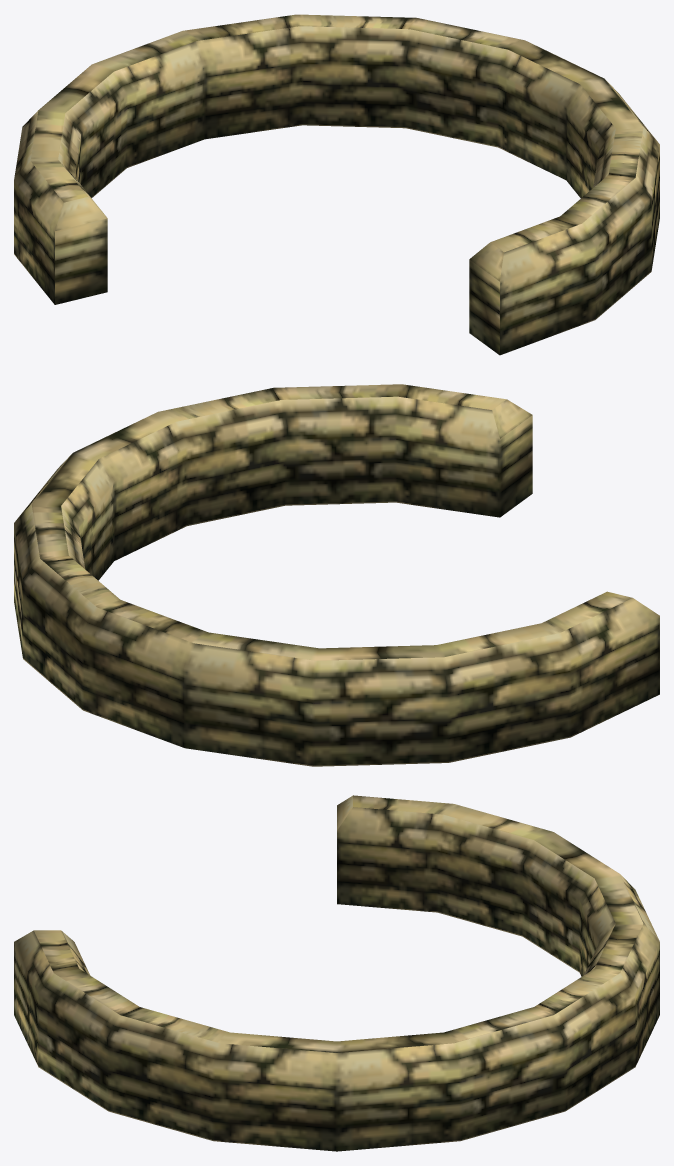
File: M8_SAM_Sandbags.glb
The picture shows the model from 3 angles, top to bottom: view 1: azimuth 30°, elevation 25°; view 2: azimuth 150°, elevation 25°; view 3: azimuth 270°, elevation 25°; orthographic projection. The views are drawn at different scales.
Visible parts, largest first — view 1: M8_SAM_SANDBAGS; view 2: M8_SAM_SANDBAGS; view 3: M8_SAM_SANDBAGS.
Boxes of the visible parts, x1=… form: M8_SAM_SANDBAGS: x1=14, y1=14, x2=659, y2=355; M8_SAM_SANDBAGS: x1=14, y1=384, x2=659, y2=766; M8_SAM_SANDBAGS: x1=14, y1=795, x2=659, y2=1151.
Bounding box in the file's own units: 8 × 1.25 × 8.
1 material, 1 textured.
